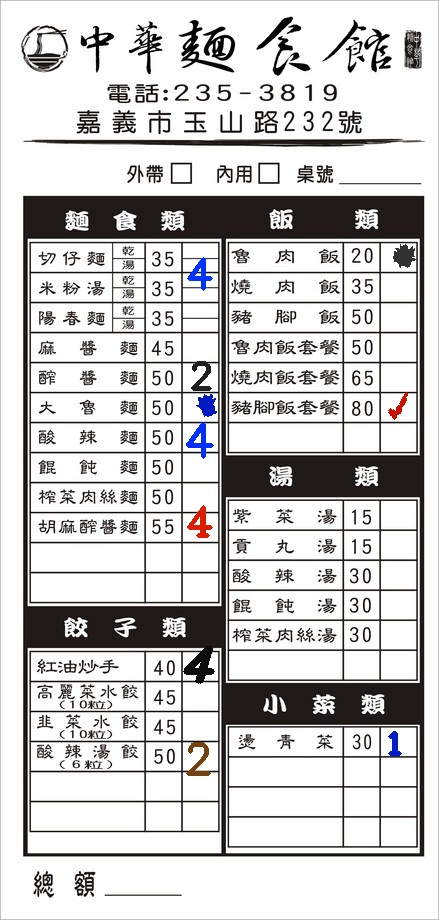marked_circle: (381, 242, 417, 271), (181, 392, 217, 421)
marked_number_1: (380, 726, 416, 755)
marked_number_2: (182, 362, 218, 391), (182, 743, 218, 772)
marked_number_4: (181, 512, 217, 541), (182, 651, 218, 680), (181, 424, 217, 453), (183, 273, 217, 286)
marked_tick: (381, 393, 417, 422)
